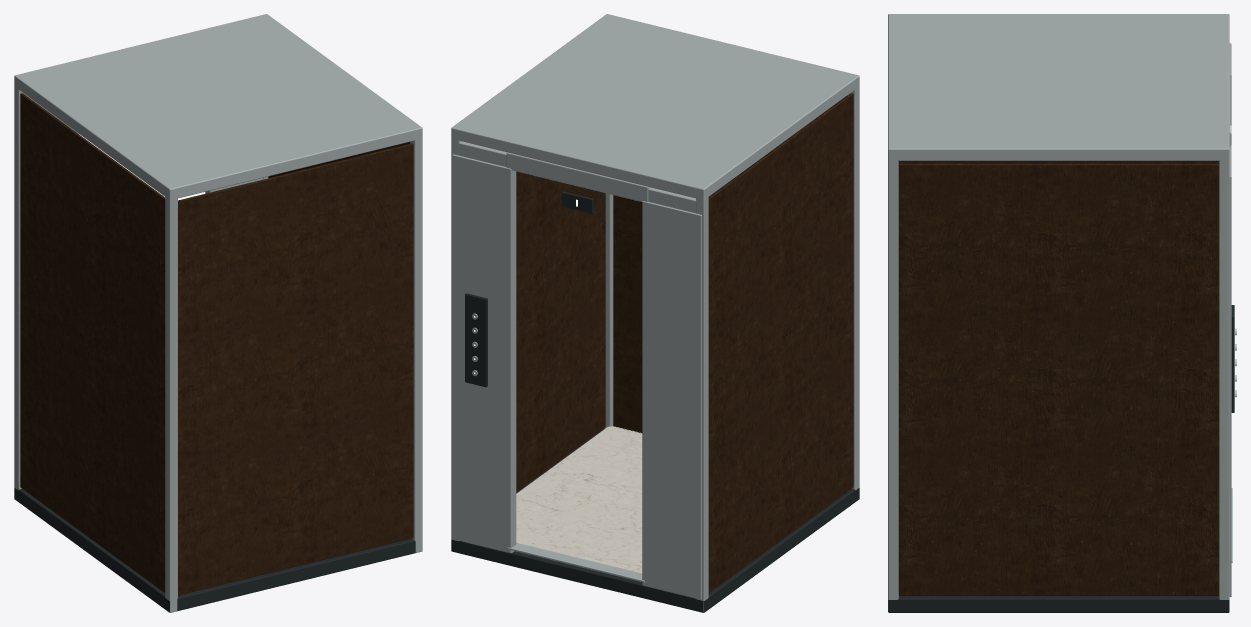
File: studio-open-lift.glb
The picture shows the model from 3 angles, left to right: view 1: azimuth 30°, elevation 25°; view 2: azimuth 150°, elevation 25°; view 3: azimuth 270°, elevation 25°; orthographic projection. The views are drawn at different scales.
Parts seen in each view (by area): view 1: wood_surfaces, steel_surfaces, dark_surfaces; view 2: steel_surfaces, wood_surfaces, stone_surfaces, dark_surfaces; view 3: wood_surfaces, steel_surfaces, dark_surfaces.
Part boxes in pixels (bbox=[...]): wood_surfaces: bbox=[20, 93, 413, 595]; steel_surfaces: bbox=[14, 14, 422, 612]; dark_surfaces: bbox=[14, 488, 422, 612]; steel_surfaces: bbox=[451, 14, 859, 612]; wood_surfaces: bbox=[516, 93, 853, 592]; stone_surfaces: bbox=[516, 426, 642, 573]; dark_surfaces: bbox=[451, 191, 859, 612]; wood_surfaces: bbox=[898, 161, 1218, 595]; steel_surfaces: bbox=[888, 14, 1236, 612]; dark_surfaces: bbox=[888, 305, 1234, 612].
Size of the model in its own units: 1.5 by 2.4 by 1.63.
5 materials, 2 textured.
